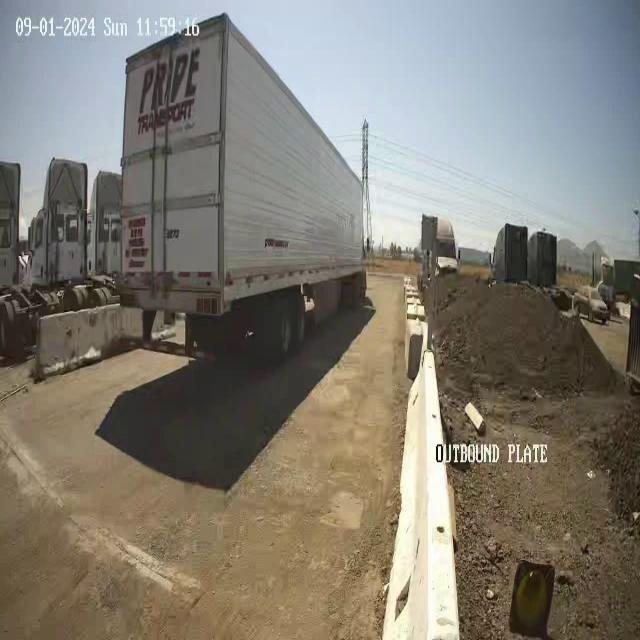TRUCK_CONTAINER: (118, 12, 366, 360)
